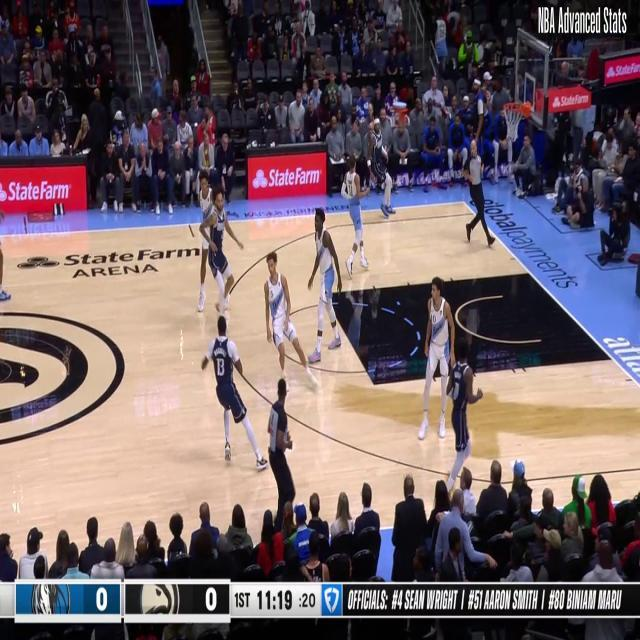player: (200, 314, 268, 473), (262, 250, 320, 394), (416, 274, 456, 442), (443, 335, 483, 497), (196, 184, 244, 316), (306, 206, 343, 364), (194, 180, 232, 310), (339, 152, 371, 280), (366, 115, 396, 218)
